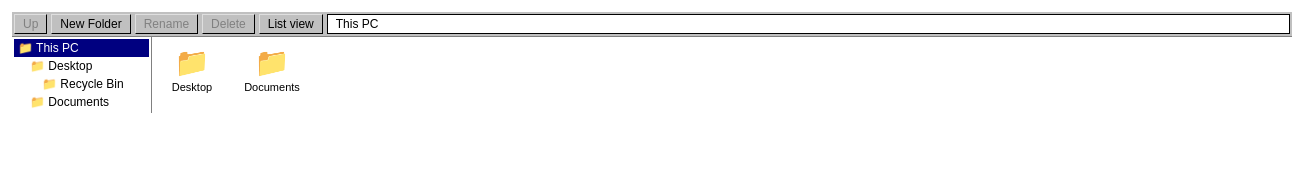
Test: CRUD › selecting an item and renaming it commits on Enter
Click the text "Documents": (272, 87) 244,81 -> 300,93
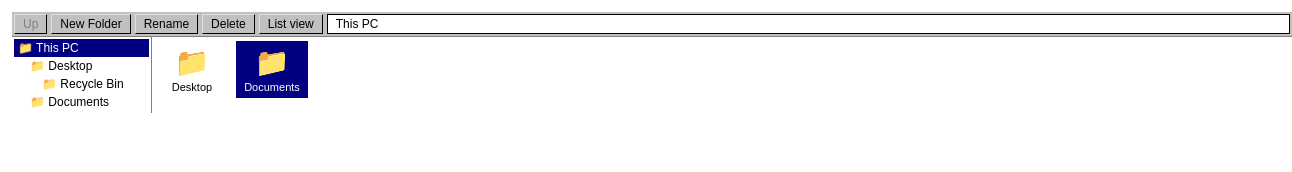
Click the button "Rename": (166, 24) 135,14 -> 198,34
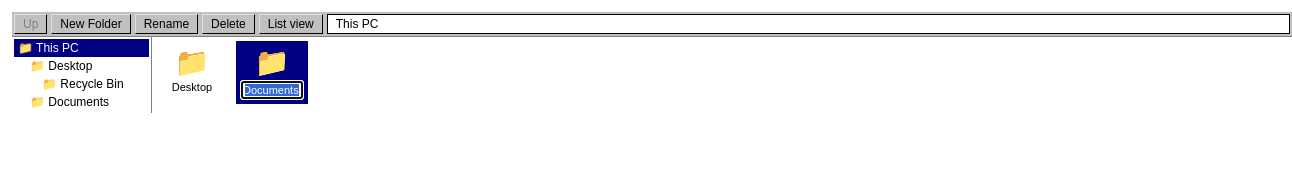
Replace the text in the field showing "Documents" with "My Docs": (272, 90) 241,81 -> 303,99
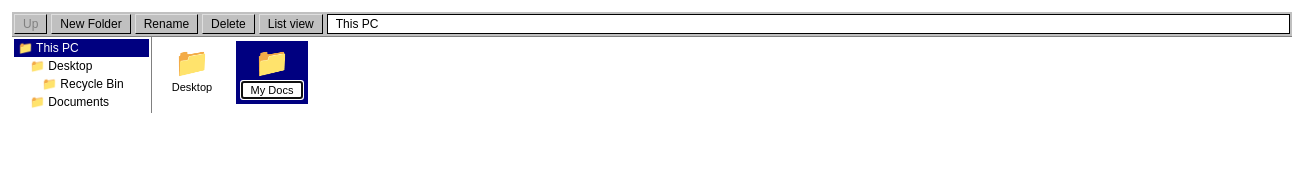
Press Enter in the field showing "Documents", box 241,81 -> 303,99
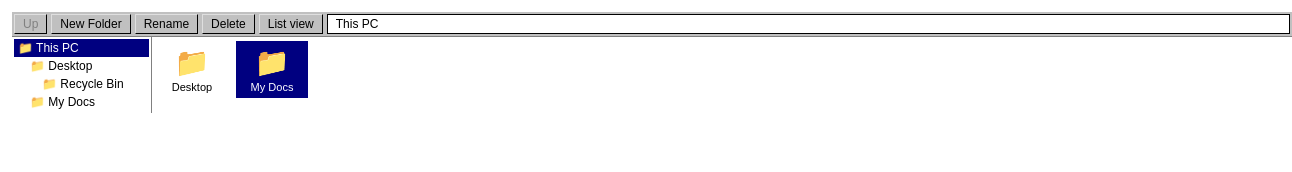
Now the text "My Docs" is shown, box 251,81 -> 293,93
